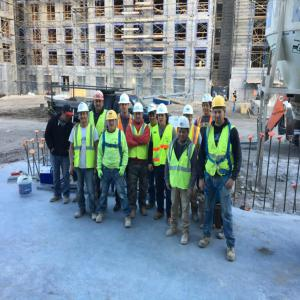none: (62, 106, 74, 124)
red: (94, 91, 106, 112)
white: (177, 117, 191, 141), (157, 103, 169, 127), (78, 103, 90, 125), (133, 103, 145, 123), (203, 94, 214, 115), (120, 94, 130, 114), (184, 106, 195, 124), (149, 105, 158, 124)
yellow: (212, 95, 227, 125), (106, 110, 119, 131)
